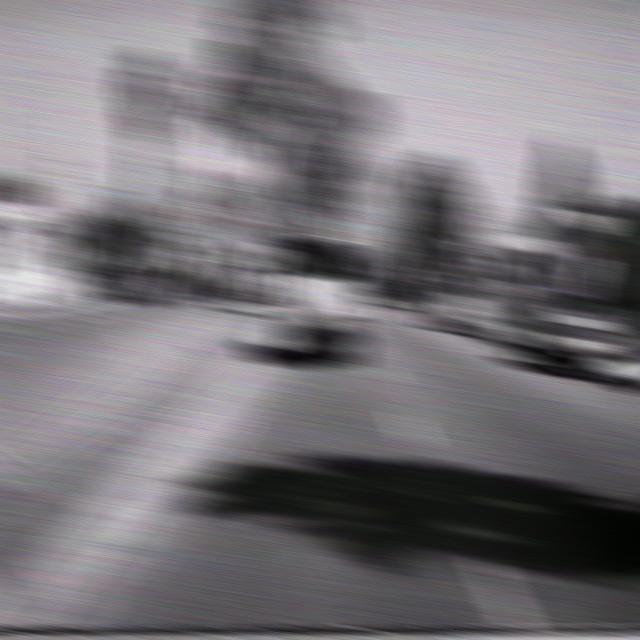speedLimit35: (460, 220, 489, 251)
